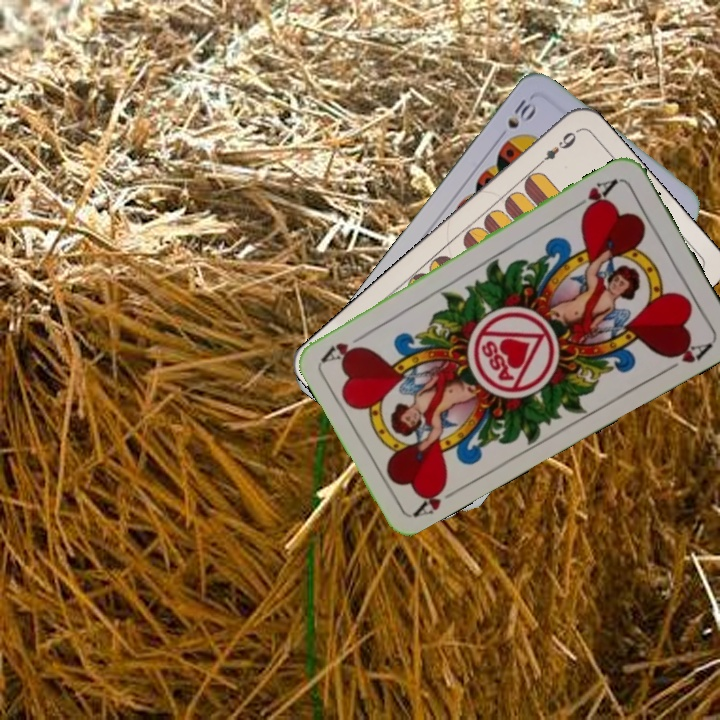E9: (532, 127, 579, 170)
HA: (409, 477, 464, 520), (569, 174, 621, 217)
S10: (503, 93, 540, 132)
